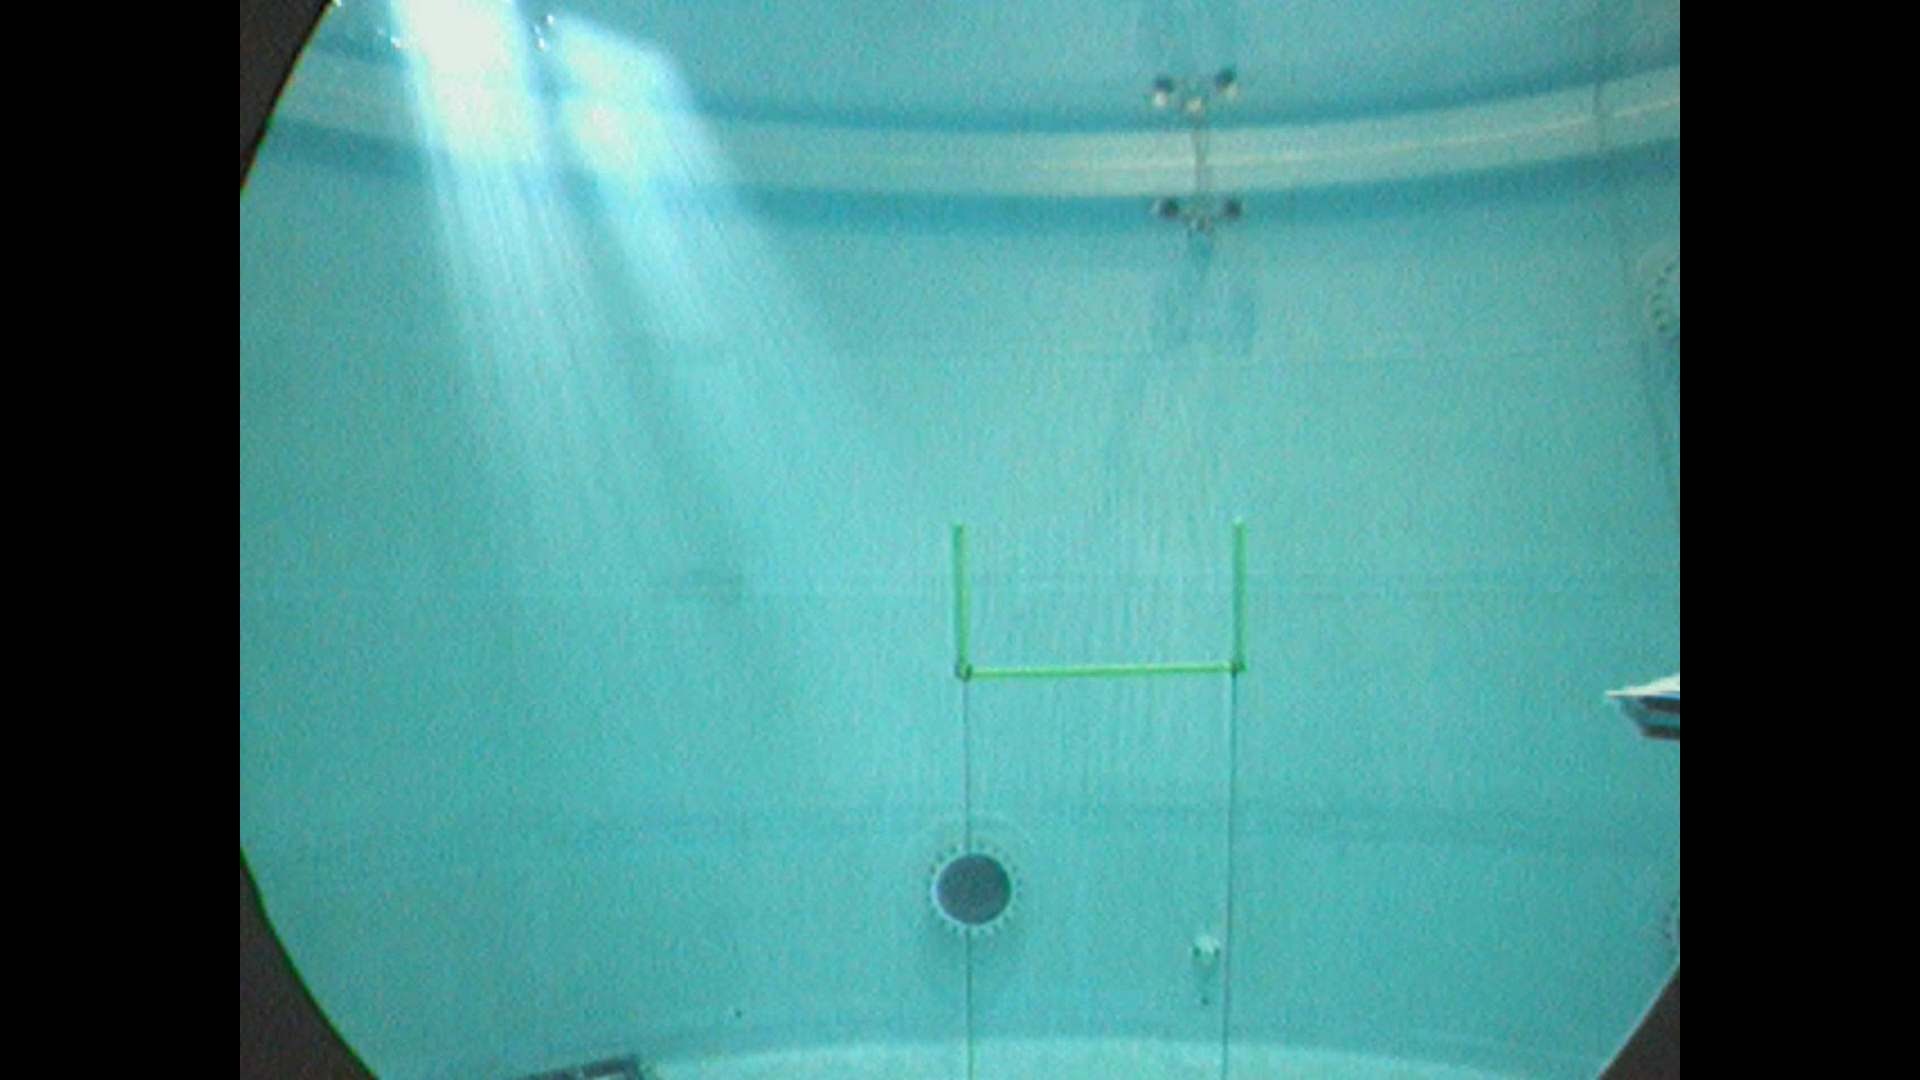gate: (951, 516, 1251, 687)
